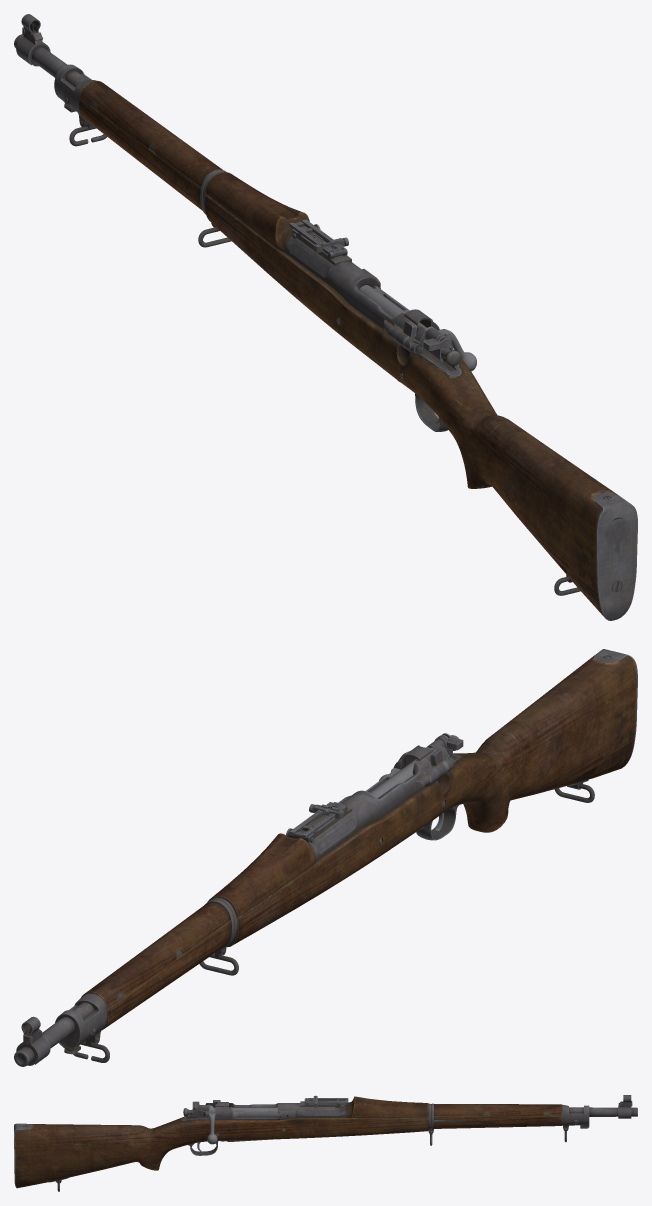
The model's file is springfield.glb.
3 renders of one model, top to bottom at view 1: azimuth 30°, elevation 25°; view 2: azimuth 150°, elevation 25°; view 3: azimuth 270°, elevation 25°, orthographic. The views are drawn at different scales.
Parts seen in each view (by area): view 1: Object_4, Object_3; view 2: Object_4, Object_3; view 3: Object_4, Object_3.
Part boxes in pixels (box(x1,y1,x2,y2)): Object_4: box(14, 14, 637, 620); Object_3: box(359, 285, 476, 371); Object_4: box(14, 649, 637, 1066); Object_3: box(366, 733, 463, 798); Object_4: box(14, 1095, 637, 1191); Object_3: box(183, 1101, 280, 1144).
Bounding box in the file's own units: 0.0746 × 0.1816 × 1.1.
2 materials, 2 textured.
